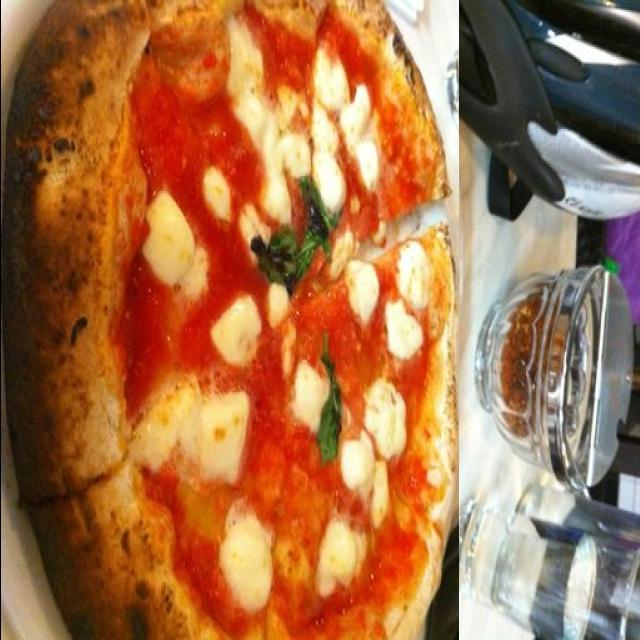basil: (250, 343, 338, 465), (314, 176, 343, 308)
pizza: (0, 0, 458, 640)
